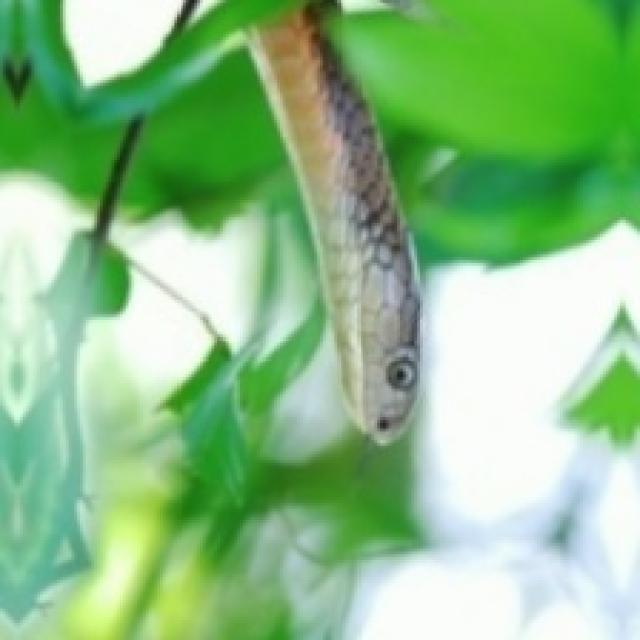king cobra: (249, 6, 417, 440)
